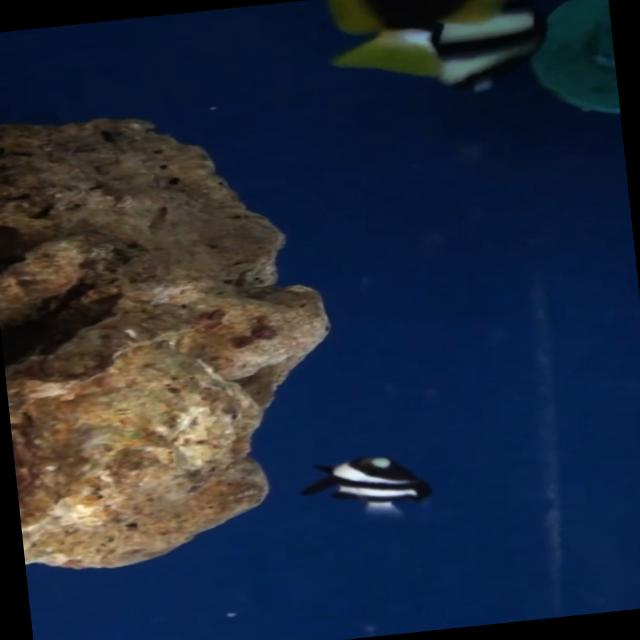ThreeStripedDamselfish: (299, 456, 431, 521)
